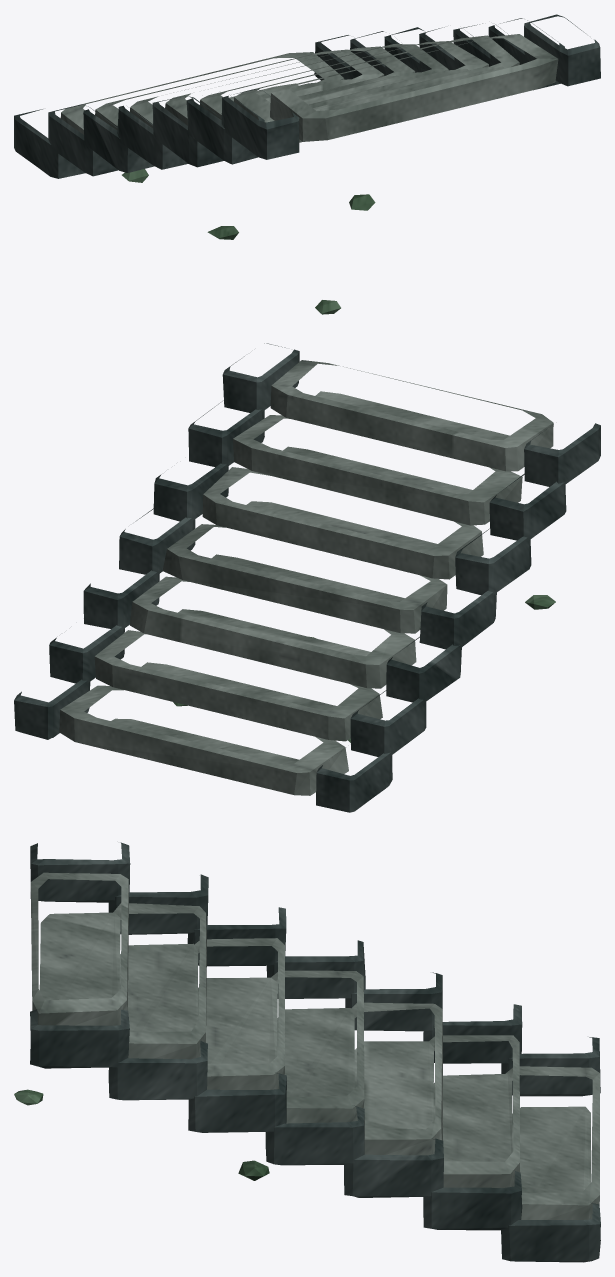
The model's file is 0353_stairs_03.glb.
3 renders of one model, top to bottom at view 1: azimuth 30°, elevation 25°; view 2: azimuth 150°, elevation 25°; view 3: azimuth 270°, elevation 25°, orthographic. The views are drawn at different scales.
Visible parts, largest first — view 1: stone, stone_dark, moss; view 2: stone, stone_dark; view 3: stone, stone_dark, moss.
Boxes of the visible parts, x1,y1,x2,y2 form: stone: (60,34,558,142); stone_dark: (14,14,600,178); moss: (122,169,375,314); stone: (59,360,553,795); stone_dark: (14,343,600,812); stone: (30,872,599,1219); stone_dark: (30,842,600,1262); moss: (14,1089,269,1180).
Size of the model in its own units: 2.49 by 1.47 by 3.29.
3 materials, 3 textured.
